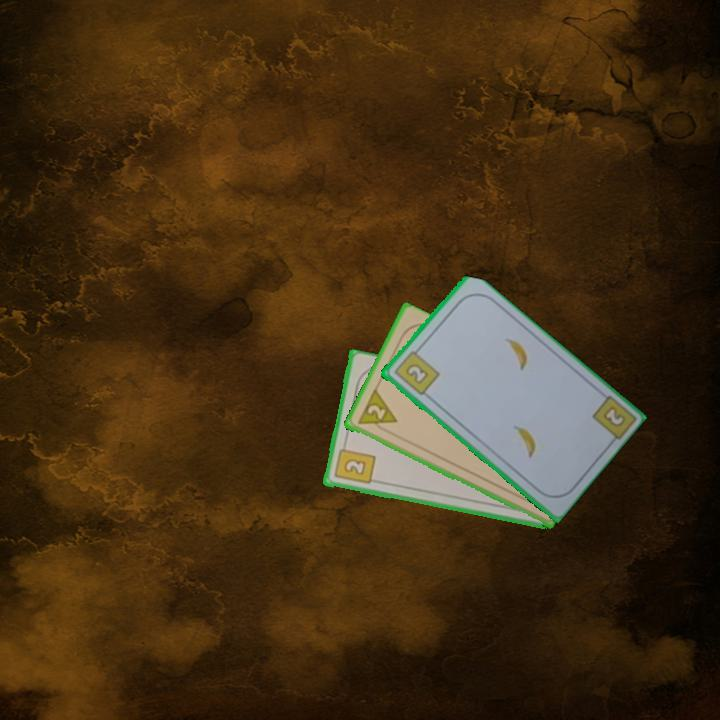2b: (390, 344, 442, 398), (331, 440, 377, 487), (599, 402, 628, 430)
2p: (353, 387, 400, 436)
